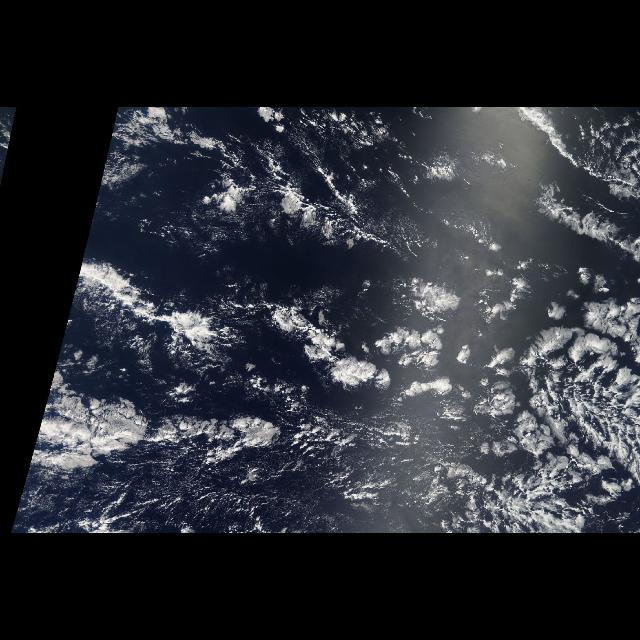Fish: (394, 282, 640, 530), (62, 257, 256, 388)
